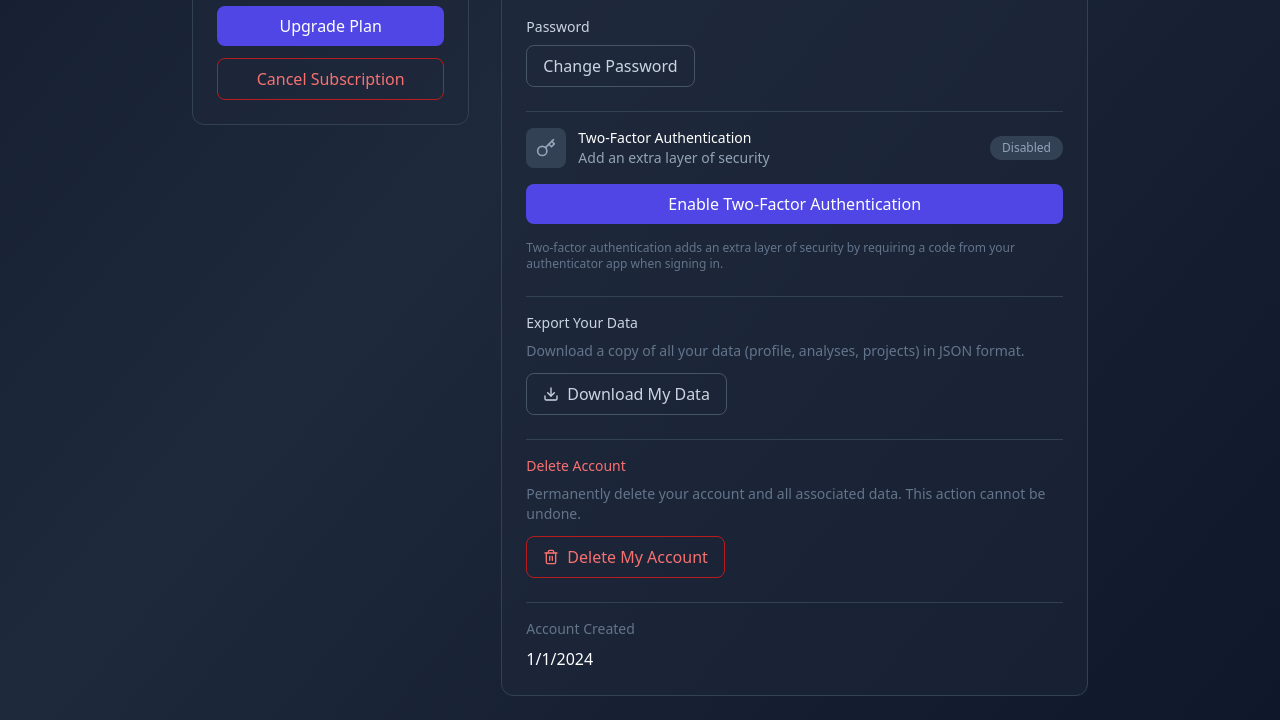
AccountPage GDPR Features › Account Deletion Feature › should require typing DELETE to enable confirmation
(page scrolled)
Click the button "Delete My Account" at [626, 557], box [526,536,725,578]
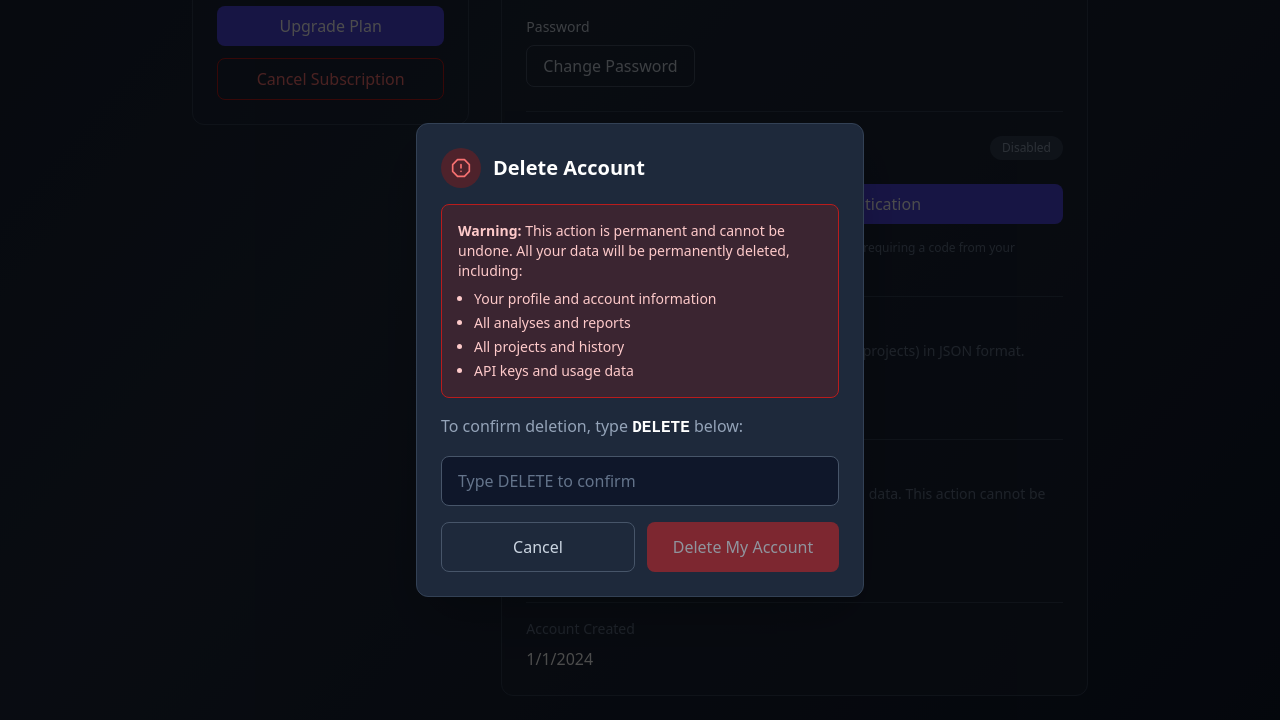
Check: the button "Delete My Account" is disabled, box [647,522,839,572]
Note: Type DELETE
Type "DELETE" into the field with placeholder "Type DELETE to confirm" at [640, 481], box [441,456,839,506]
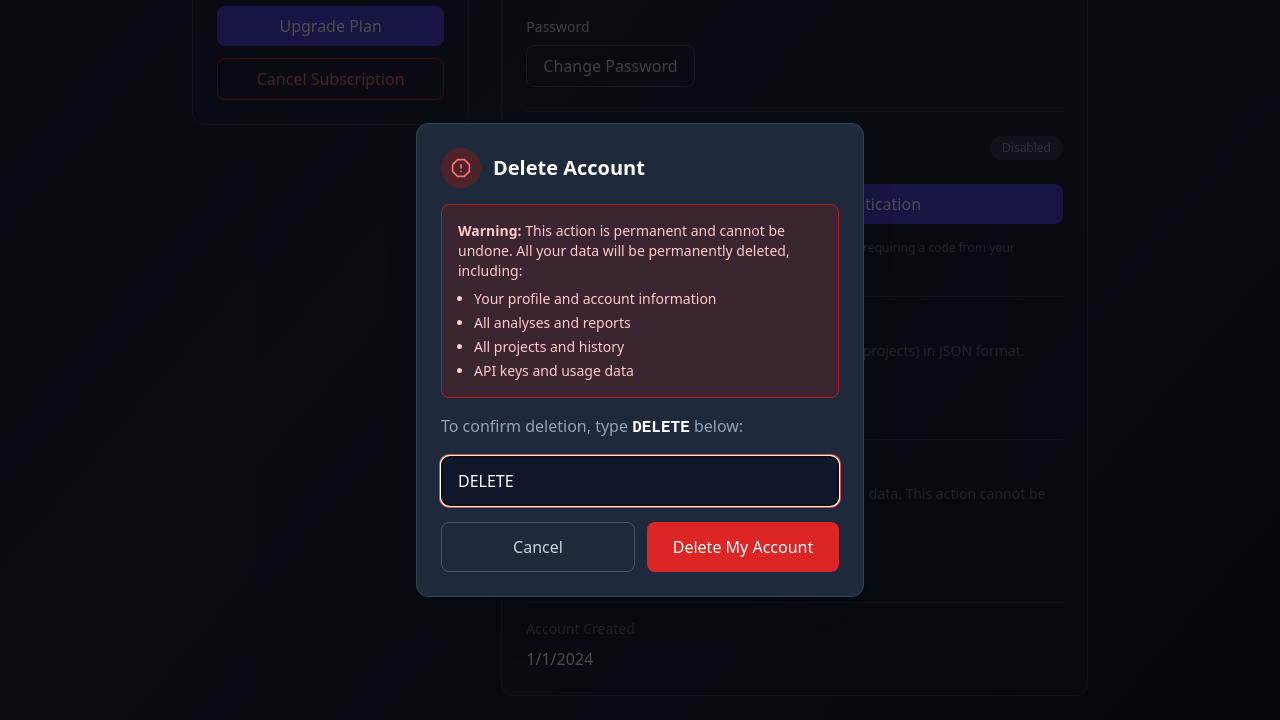
Check: the button "Delete My Account" is enabled, box [647,522,839,572]
